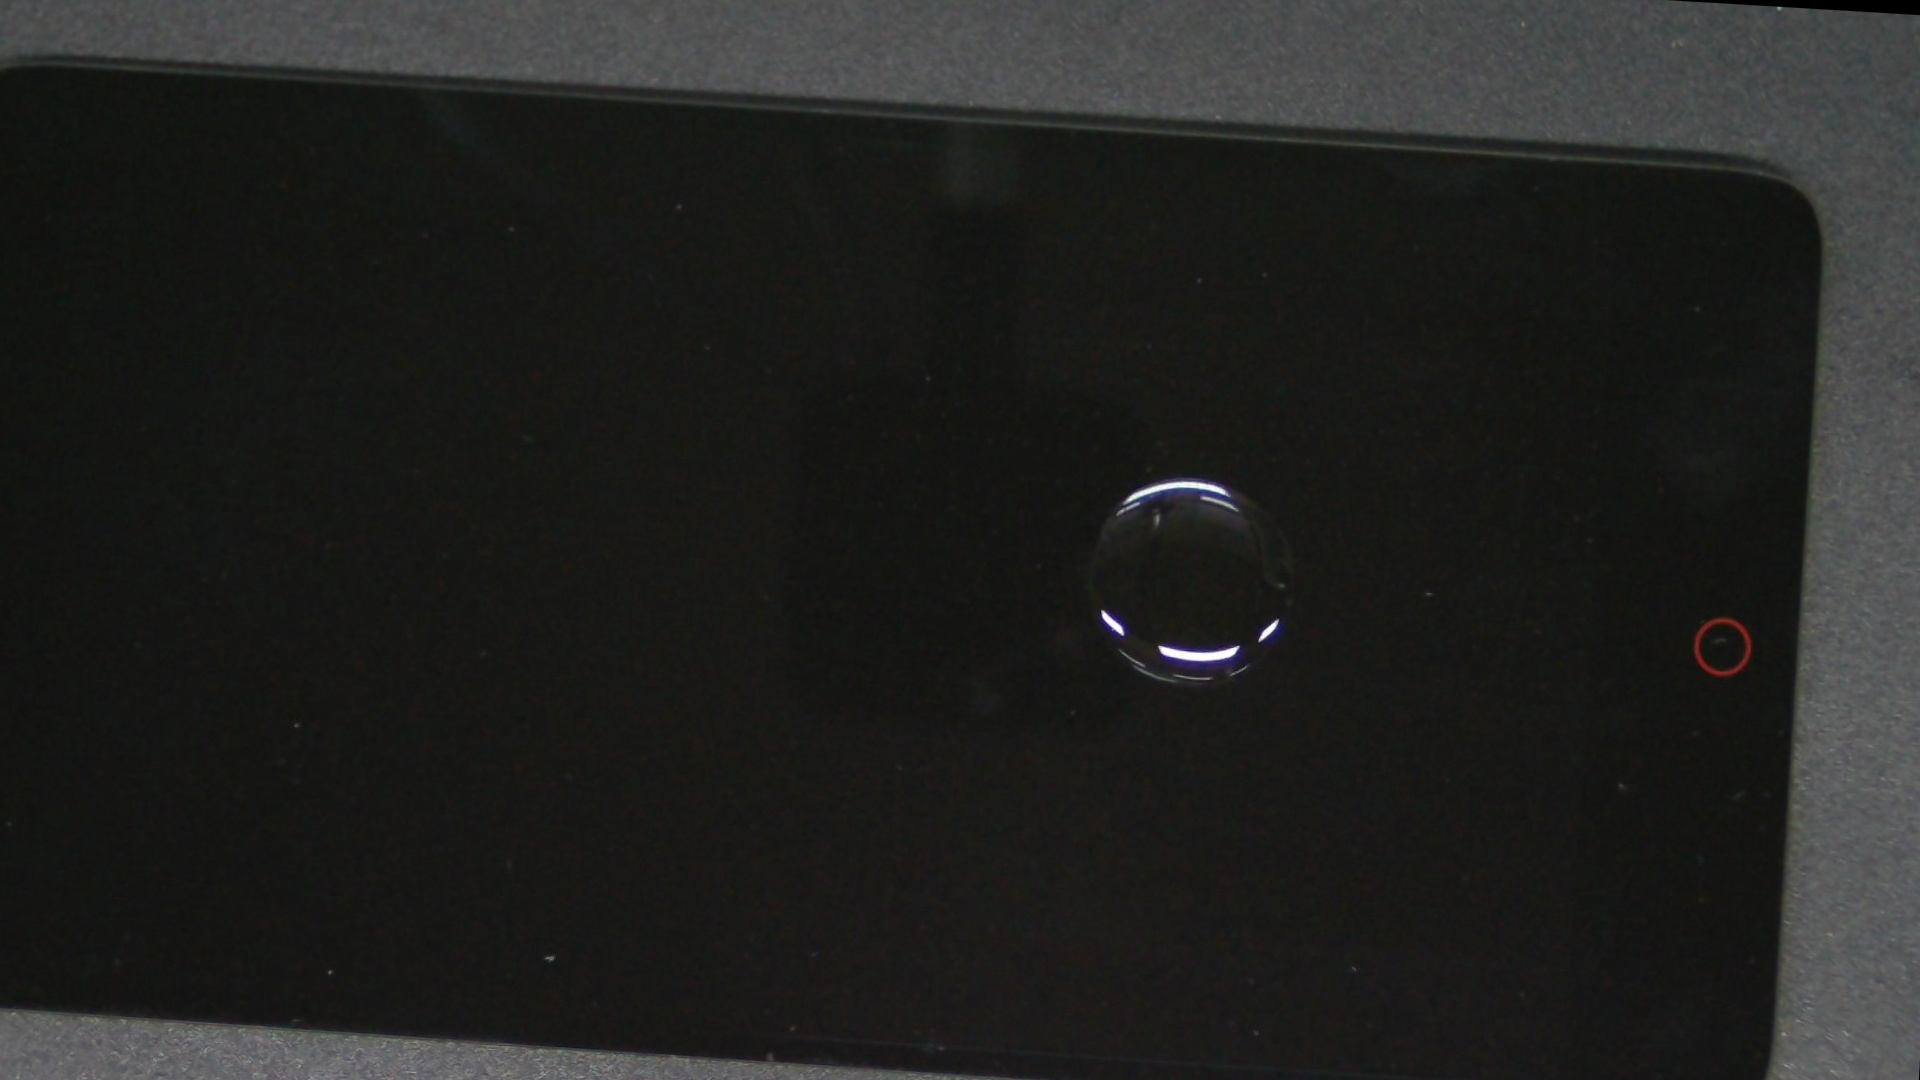oil: (488, 185, 1888, 771)
